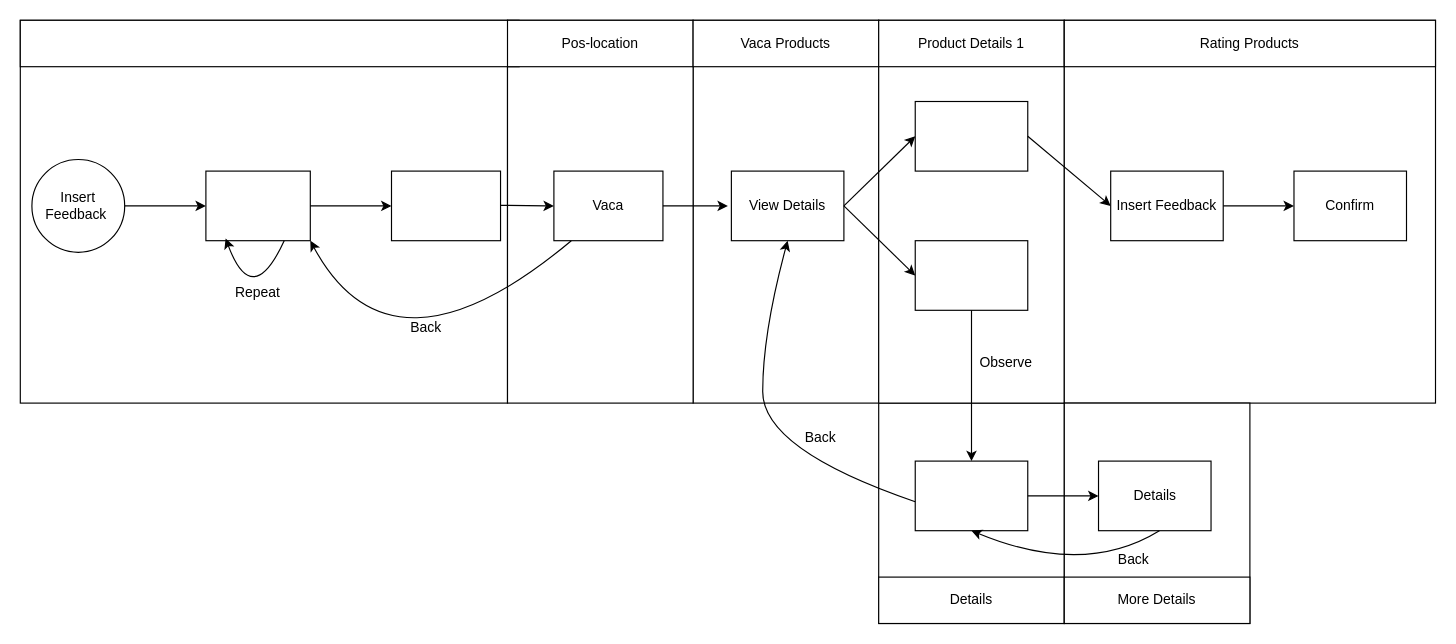
The diagram is 1456 pixels wide and 644 high, and some of its shapes have lost their labels. The shapes that lost their labels are listed below. From the top down, each one's centre as x and y in pixels, then its label:
At point 269,43: "Pre-location".
At point 971,135: "Feedback".
At point 257,205: "Market".
At point 445,205: "GO".
At point 971,275: "Expand".
At point 971,495: "More".
